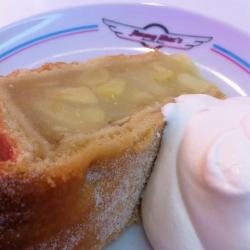apple_pie: (2, 53, 218, 248)
chantilly: (134, 91, 249, 250)
